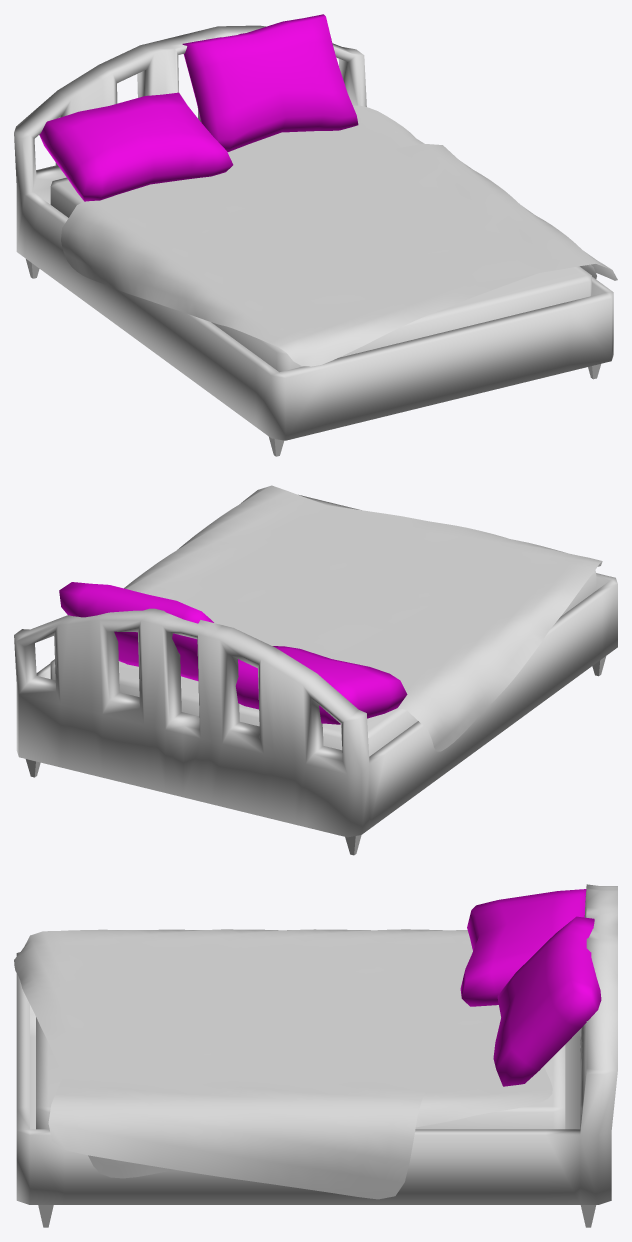
Rendered from HG_model_Bed.fbx.
3 renders of one model, top to bottom at view 1: azimuth 30°, elevation 25°; view 2: azimuth 150°, elevation 25°; view 3: azimuth 270°, elevation 25°, orthographic. The views are drawn at different scales.
Visible parts, largest first — view 1: Bed; view 2: Bed; view 3: Bed.
Boxes of the visible parts, left/top/right/bottom form: Bed: left=14, top=14, right=617, bottom=456; Bed: left=14, top=485, right=617, bottom=855; Bed: left=14, top=884, right=617, bottom=1227.
Bounding box in the file's own units: 204 × 103 × 254.
